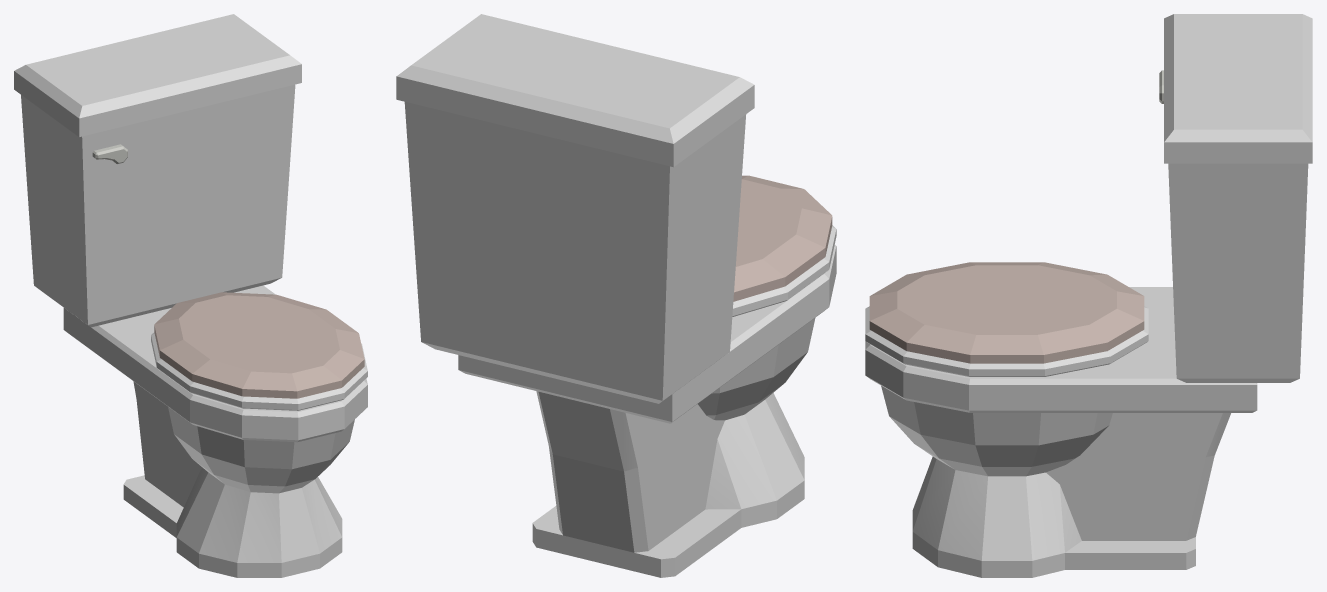
The model's file is Prop_Bathroom_Toilet.obj.
The picture shows the model from 3 angles, left to right: view 1: azimuth 30°, elevation 25°; view 2: azimuth 150°, elevation 25°; view 3: azimuth 270°, elevation 25°; orthographic projection. The views are drawn at different scales.
Parts seen in each view (by area): view 1: object4, object2, object3, object1; view 2: object4, object2, object3; view 3: object4, object2, object3.
Part boxes in pixels (x1,y1,x2,y2): object4: (14,14,367,577); object2: (154,292,364,398); object3: (151,332,367,410); object1: (92,144,127,163); object4: (396,14,836,577); object2: (733,175,832,301); object3: (732,225,836,316); object4: (865,14,1312,577); object2: (869,262,1144,363); object3: (865,306,1148,376).
Size of the model in its own units: 0.5858 by 1.03 by 0.8925.
